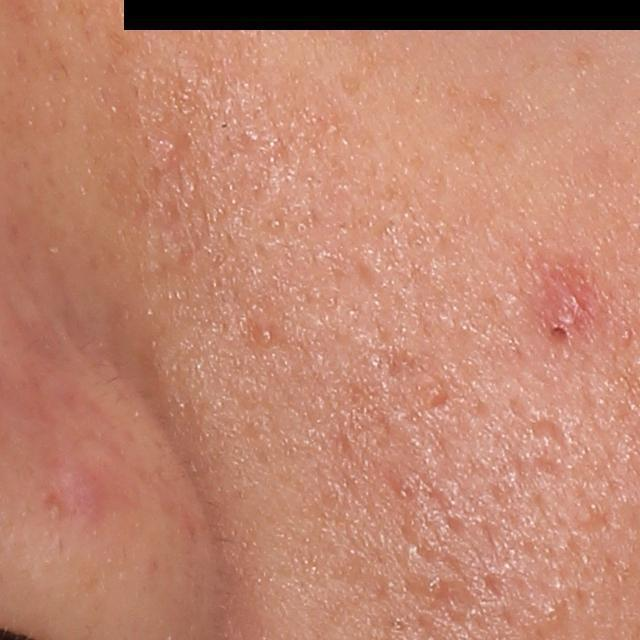atrophic_scar: (404, 573, 488, 632), (528, 414, 577, 455), (353, 252, 386, 292)
comedo: (258, 323, 278, 348), (544, 600, 564, 621)
